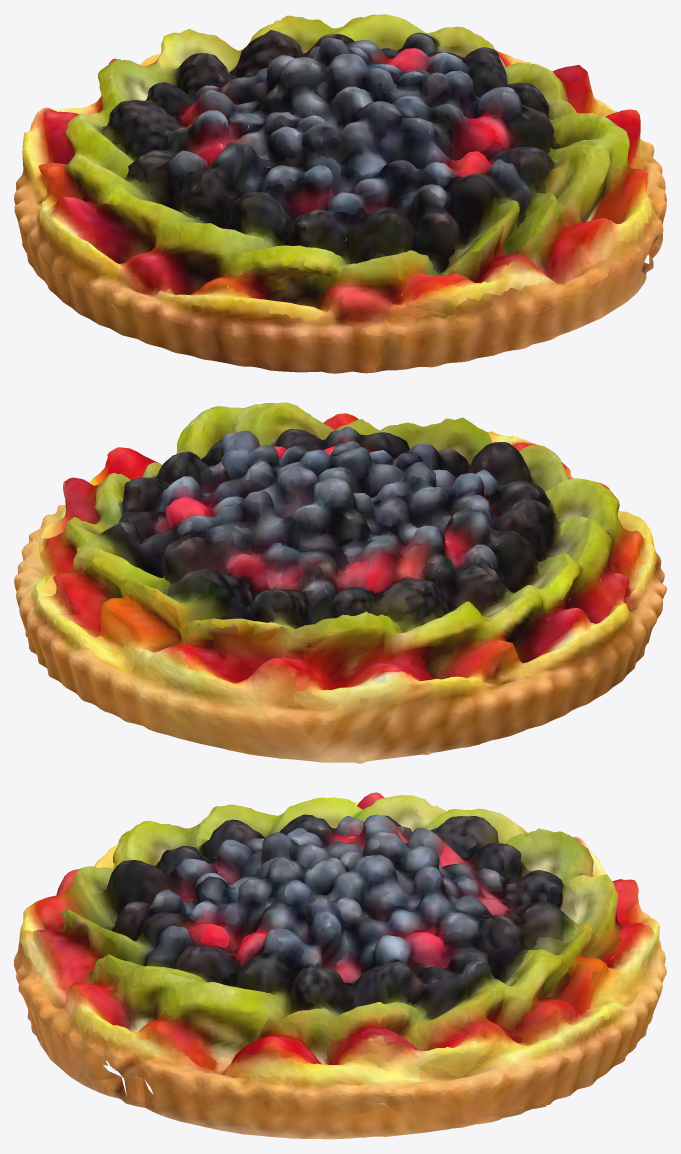
File: fruit-tart.glb
The picture shows the model from 3 angles, top to bottom: view 1: azimuth 30°, elevation 25°; view 2: azimuth 150°, elevation 25°; view 3: azimuth 270°, elevation 25°; orthographic projection.
Parts seen in each view (by area): view 1: Object_2, Object_3; view 2: Object_2, Object_3; view 3: Object_3, Object_2.
Boxes of the visible parts, x1=… form: Object_2: x1=14, y1=14, x2=664, y2=373; Object_3: x1=24, y1=14, x2=666, y2=319; Object_2: x1=20, y1=402, x2=666, y2=763; Object_3: x1=14, y1=403, x2=665, y2=762; Object_3: x1=19, y1=792, x2=666, y2=1139; Object_2: x1=14, y1=795, x2=657, y2=1136.
Size of the model in its own units: 0.22 by 0.0614 by 0.2227.
1 material, 1 textured.
